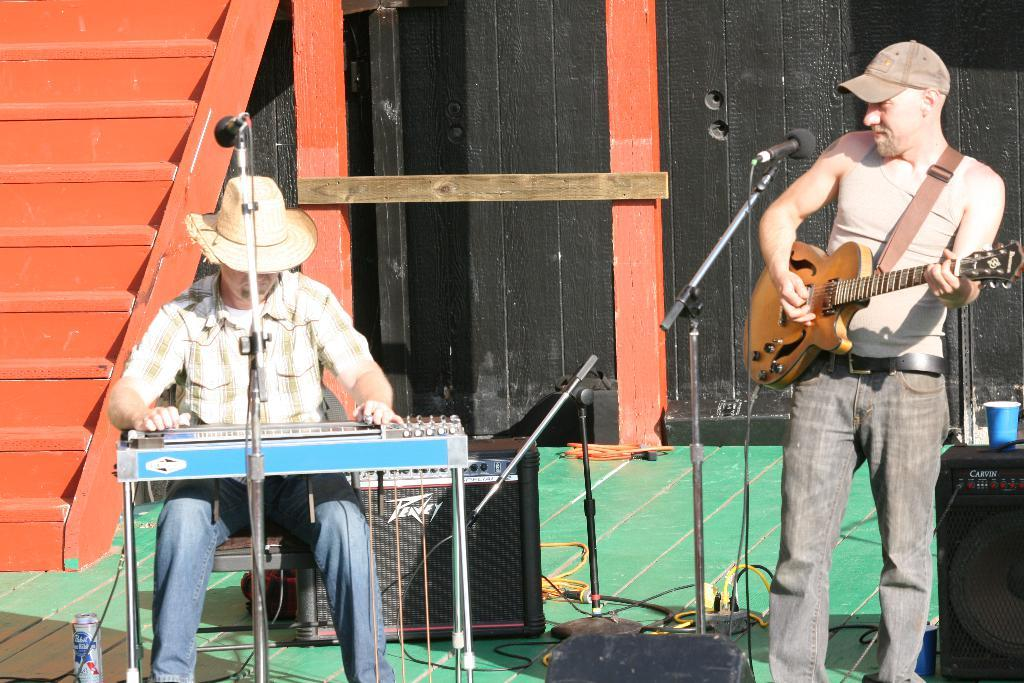Hat: (184, 173, 318, 272), (835, 37, 951, 107)
